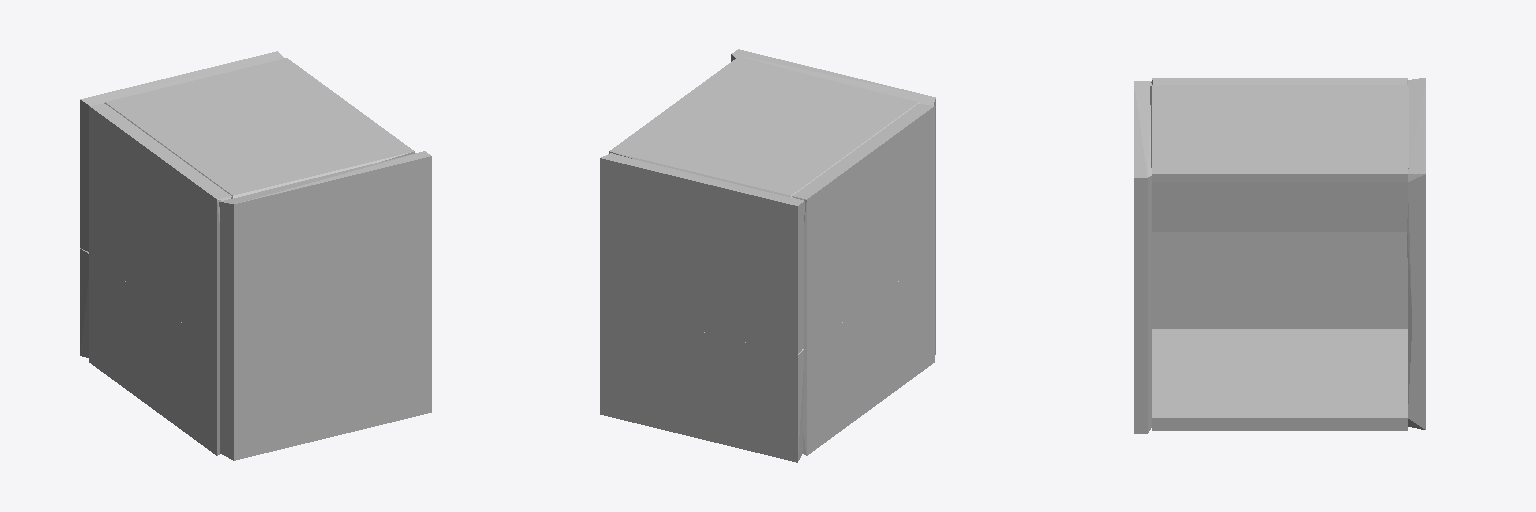
Rendered from sektion_convexdecomposition.obj.
3 views of the same model, side by side, from view 1: azimuth 30°, elevation 25°; view 2: azimuth 150°, elevation 25°; view 3: azimuth 270°, elevation 25° (orthographic).
Bounding box in the file's own units: 0.6463 × 0.7706 × 0.7954.